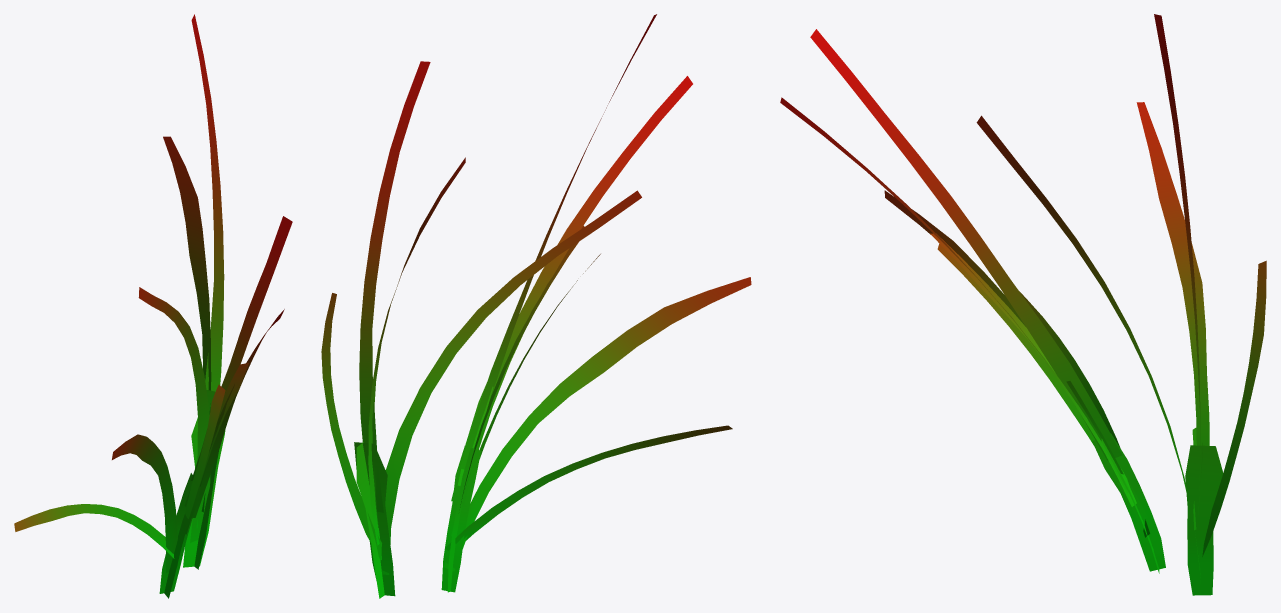
The model's file is SM_Marram_Grass_03.FBX.
3 views of the same model, side by side, from view 1: azimuth 30°, elevation 25°; view 2: azimuth 150°, elevation 25°; view 3: azimuth 270°, elevation 25° (orthographic). The views are drawn at different scales.
Visible parts, largest first — view 1: SM_Marram_Grass_03; view 2: SM_Marram_Grass_03; view 3: SM_Marram_Grass_03.
Boxes of the visible parts, x1=… form: SM_Marram_Grass_03: x1=14, y1=14, x2=292, y2=598; SM_Marram_Grass_03: x1=321, y1=14, x2=751, y2=598; SM_Marram_Grass_03: x1=780, y1=14, x2=1266, y2=595.
Size of the model in its own units: 19.16 by 25.44 by 32.97.
